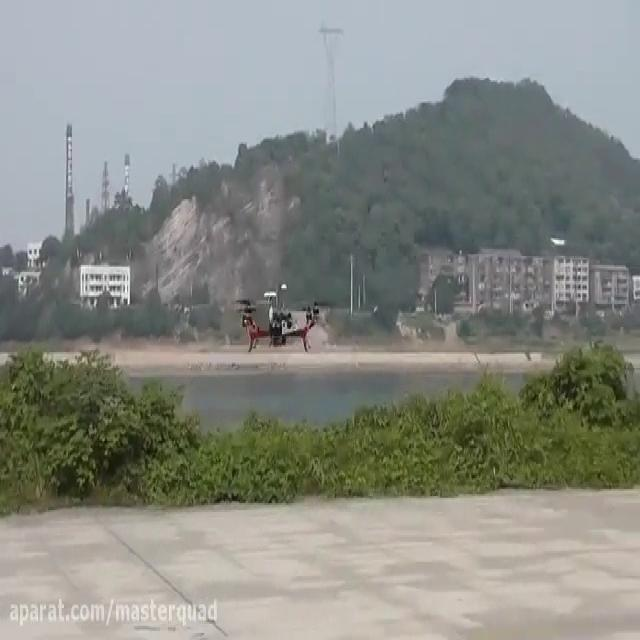drone: (231, 279, 331, 361)
